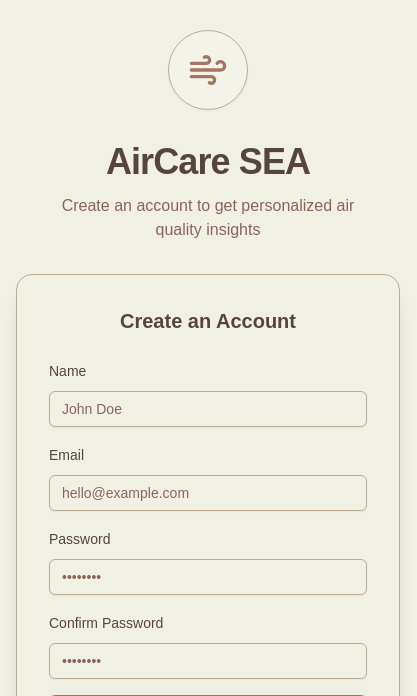
Test: SignupSection › maps duplicate-email errors to user-friendly message
This screenshot has width=417, height=696.
Step 1. Type "Jane Doe" into the field labelled "Name" → [208, 409], box [49,391,367,427]
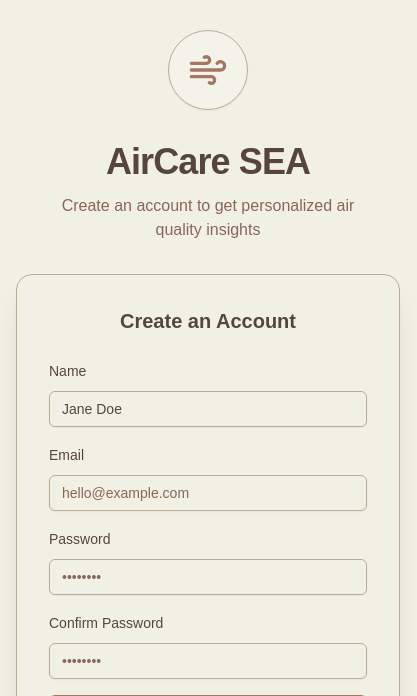
Step 2. Type "jane@example.com" into the field labelled "Email" → [208, 493], box [49,475,367,511]
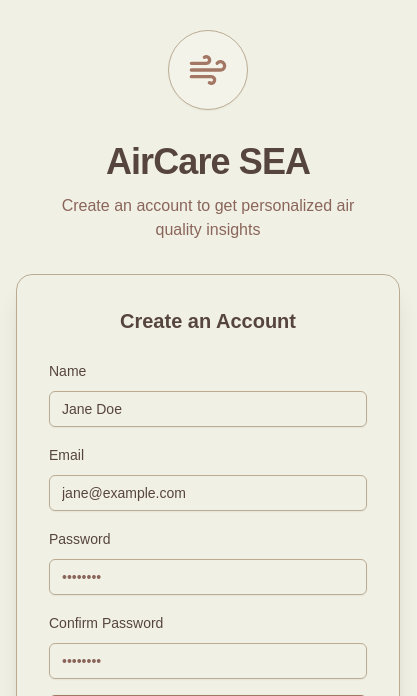
Step 3. Type "secret123" into the password field labelled "Password" → [208, 577], box [49,559,367,595]
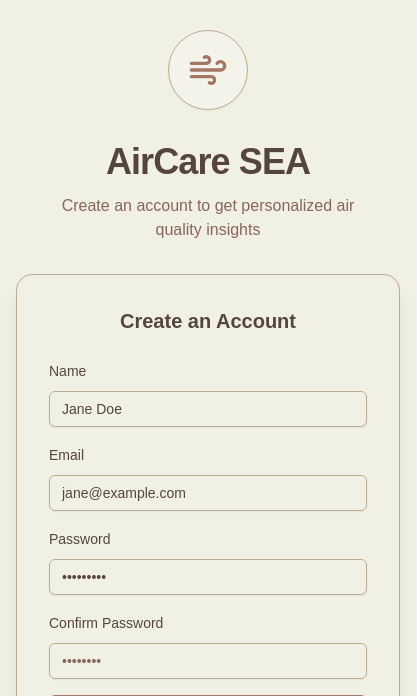
Step 4. Type "secret123" into the password field labelled "Confirm Password" → [208, 661], box [49,643,367,679]
(page scrolled)
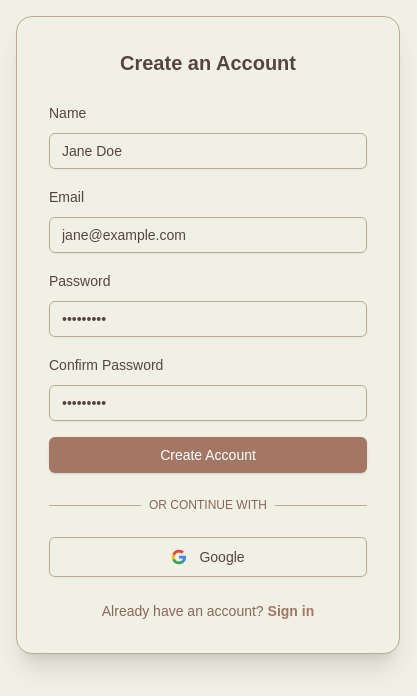
Step 5. Click the button "Create Account" → [208, 455], box [49,437,367,473]
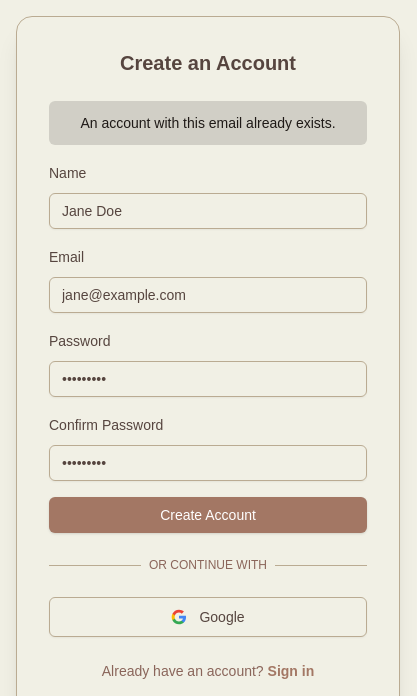
Now the text "An account with this email already exists." is shown, box [49,101,367,145]
